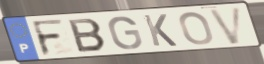B: (67, 17, 109, 54)
F: (30, 18, 67, 58)
G: (106, 15, 144, 51)
K: (141, 13, 180, 48)
O: (178, 10, 215, 46)
V: (207, 5, 244, 46)
